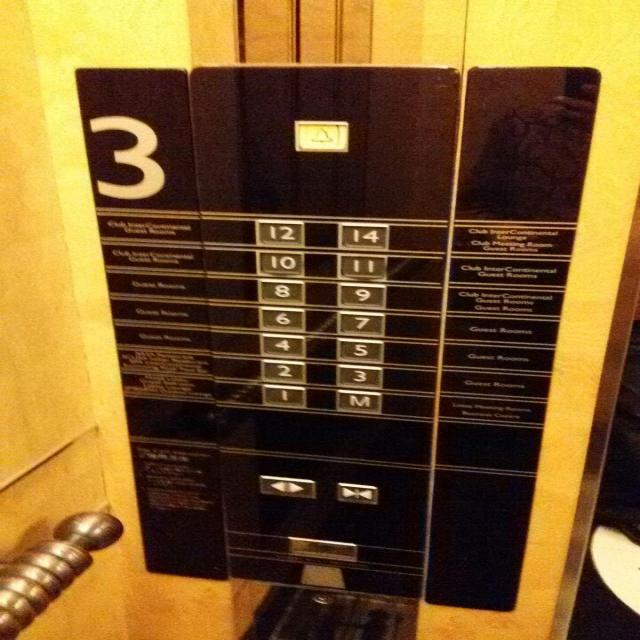1: (260, 382, 306, 408)
10: (253, 248, 305, 278)
11: (336, 252, 388, 282)
12: (253, 219, 304, 247)
14: (335, 221, 389, 251)
2: (258, 358, 306, 384)
3: (333, 362, 383, 390)
4: (258, 332, 306, 359)
5: (333, 337, 384, 365)
6: (256, 306, 307, 332)
7: (334, 309, 386, 337)
8: (256, 277, 307, 303)
9: (335, 281, 386, 309)
M: (334, 387, 383, 415)
alarm: (290, 119, 348, 153)
close: (336, 480, 377, 506)
led: (451, 66, 602, 224), (74, 69, 198, 213)
open: (257, 474, 315, 500)
